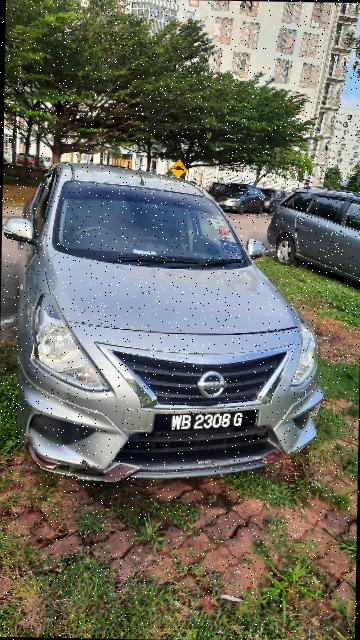License_Plate: (147, 407, 263, 440)
car: (1, 160, 331, 490)
